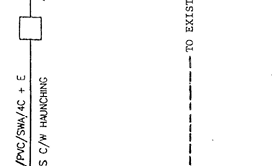Cable Termination Box: (13, 7, 54, 46)
